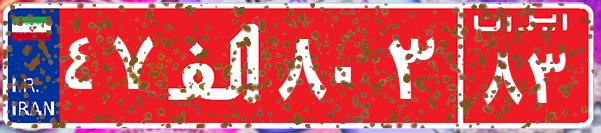0: (330, 28, 385, 110)
3: (385, 28, 445, 110), (525, 38, 570, 115)
4: (57, 26, 110, 107)
7: (110, 28, 158, 105)
8: (273, 28, 330, 110), (475, 38, 525, 113)
الف: (158, 15, 273, 115)
